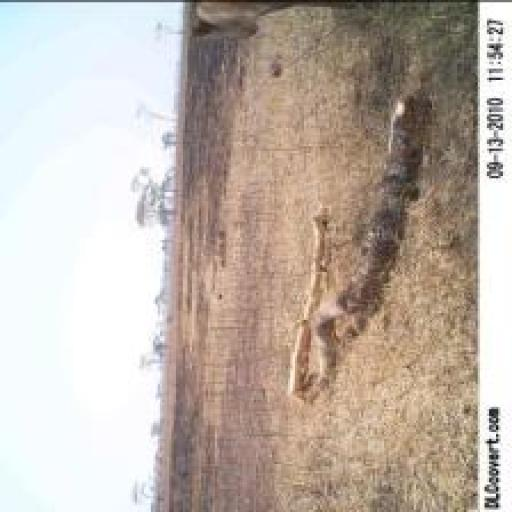lion: (171, 0, 398, 46)
